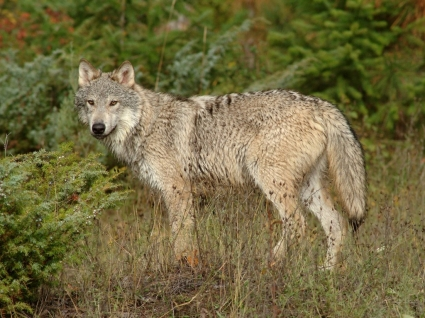Lobo: (66, 56, 379, 267)
